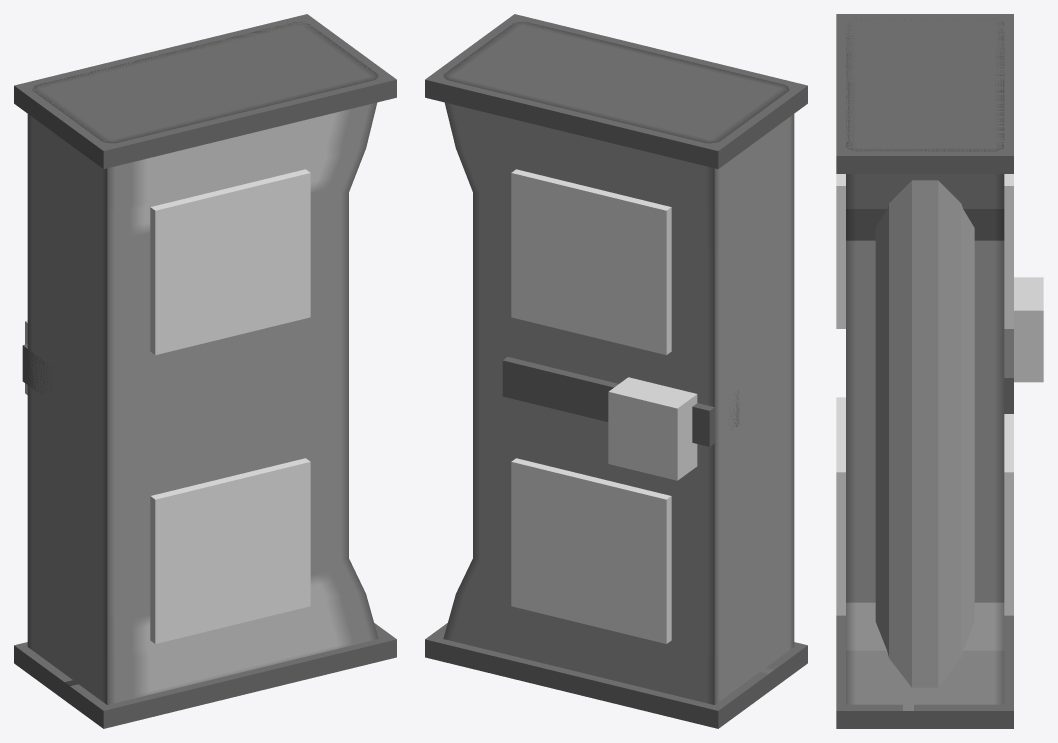
Rendered from Door.fbx.
3 views of the same model, side by side, from view 1: azimuth 30°, elevation 25°; view 2: azimuth 150°, elevation 25°; view 3: azimuth 270°, elevation 25° (orthographic).
Visible parts, largest first — view 1: door, window_1, window, ring2, ring1, door peice; view 2: door, window_1, window, ring2, ring1, handle, door peice; view 3: door, cylinder, ring2, ring1, window_1, handle, window, door peice.
Boxes of the visible parts, x1,y1,x2,y2 form: door: (27, 22, 378, 704); window_1: (150, 458, 310, 643); window: (150, 169, 310, 354); ring2: (14, 14, 396, 168); ring1: (14, 623, 396, 728); door peice: (22, 344, 52, 394); door: (443, 22, 794, 704); window_1: (511, 458, 671, 643); window: (511, 169, 671, 354); ring2: (425, 14, 807, 168); ring1: (425, 623, 807, 728); handle: (608, 377, 697, 480); door peice: (502, 357, 739, 446); door: (846, 18, 1004, 710); cylinder: (875, 180, 974, 687); ring2: (836, 14, 1013, 173); ring1: (836, 615, 1013, 728); window_1: (836, 397, 1013, 615); handle: (1014, 277, 1043, 382); window: (836, 174, 1013, 328); door peice: (1004, 329, 1013, 413).
Size of the model in its own units: 106 by 200 by 65.62.
Materials: 5 (5 with a texture image).
